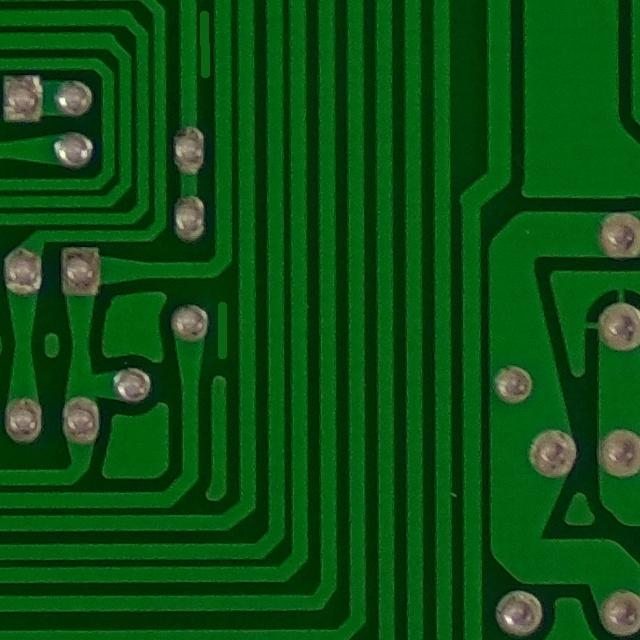spurious_copper: (190, 0, 222, 96), (207, 288, 239, 367)
